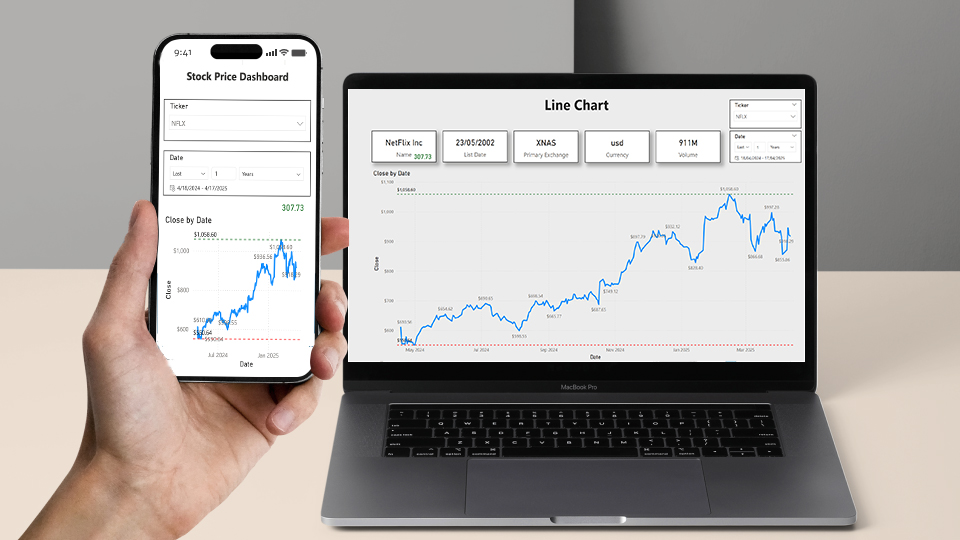

The page's visual inventory and layout, read from the dashboard file:
{"tool":"powerbi","page":{"name":"Line Chart","canvas":[1280,720],"ordinal":1},"visuals":[{"type":"slicer","fields":{"Values":["stock_data_combined.ticker"]},"box":[1067.6,30.3,200.4,73.6],"z":0},{"type":"textbox","box":[357.3,11.8,565.4,64.9],"z":1000},{"type":"lineChart","fields":{"Category":["stock_data_combined.date"],"Y":["Sum(stock_data_combined.close_price)"]},"box":[68.7,209.7,1199.4,497.3],"z":2000},{"type":"slicer","fields":{"Values":["stock_data_combined.date"]},"box":[1067.6,110.7,200.4,81.6],"z":3000},{"type":"card","fields":{"Values":["Min(ticker_details.list_date)"]},"box":[267.2,110.7,180,81],"z":4000},{"type":"card","fields":{"Values":["Sum(stock_data_combined.volume)"]},"box":[861.6,110.7,180,81.6],"z":5000},{"type":"card","fields":{"Values":["Min(ticker_details.primary_exchange)"]},"box":[465.2,110.7,180,81.6],"z":6000},{"type":"card","fields":{"Values":["Min(ticker_details.currency_name)"]},"box":[663.7,110.7,180,81.6],"z":7000},{"type":"card","fields":{"Values":["Min(ticker_details.name)"]},"box":[68.7,110.7,180,81],"z":8000},{"type":"PBI_CV_7B952816_A48F_49B4_9E13_15E3BB2C0337","fields":{"Values":["_Measures.price_change"]},"box":[175.7,159.6,71.8,30.3],"z":9000}]}

Visuals, with their boxes in screenshot pixels (x1, y1, x2, y2), scaled from the page's 1280x720 canvas onto the 960x540 screenshot:
slicer - stock_data_combined.ticker: [x1=801, y1=23, x2=951, y2=78]
textbox: [x1=268, y1=9, x2=692, y2=58]
lineChart - stock_data_combined.date x Sum(stock_data_combined.close_price): [x1=52, y1=157, x2=951, y2=530]
slicer - stock_data_combined.date: [x1=801, y1=83, x2=951, y2=144]
card - Min(ticker_details.list_date): [x1=200, y1=83, x2=335, y2=144]
card - Sum(stock_data_combined.volume): [x1=646, y1=83, x2=781, y2=144]
card - Min(ticker_details.primary_exchange): [x1=349, y1=83, x2=484, y2=144]
card - Min(ticker_details.currency_name): [x1=498, y1=83, x2=633, y2=144]
card - Min(ticker_details.name): [x1=52, y1=83, x2=187, y2=144]
PBI_CV_7B952816_A48F_49B4_9E13_15E3BB2C0337 - _Measures.price_change: [x1=132, y1=120, x2=186, y2=142]
